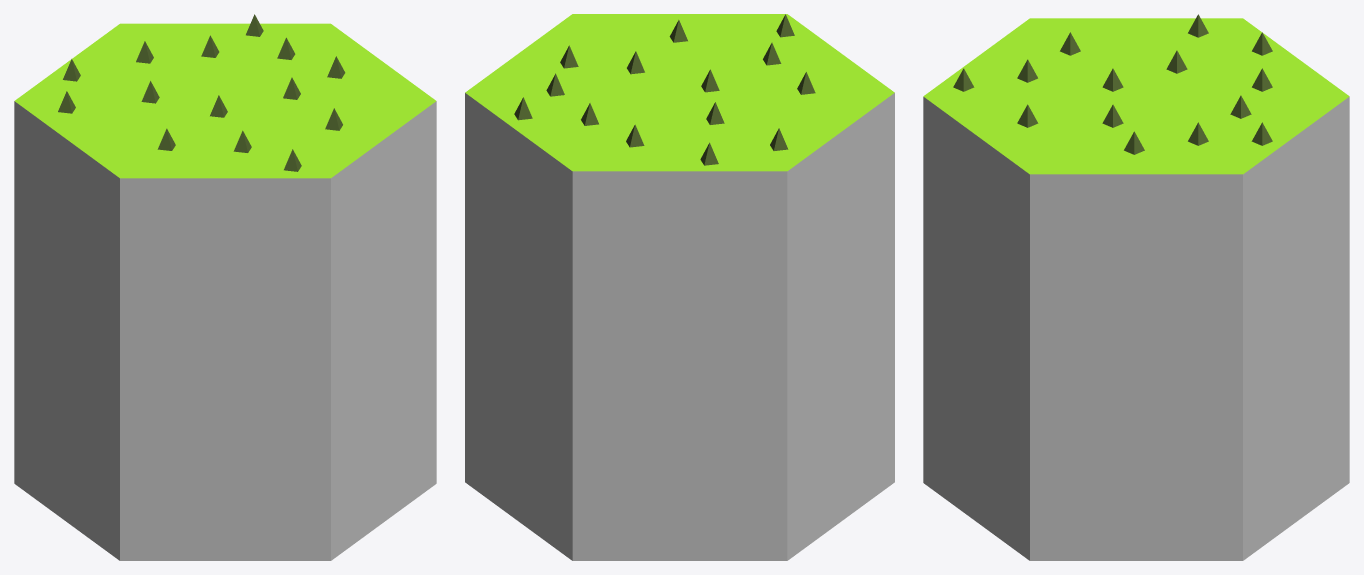
The model's file is HexCellPlains.fbx.
The picture shows the model from 3 angles, left to right: view 1: azimuth 30°, elevation 25°; view 2: azimuth 150°, elevation 25°; view 3: azimuth 270°, elevation 25°; orthographic projection.
Parts seen in each view (by area): view 1: Circle; view 2: Circle; view 3: Circle.
Boxes of the visible parts, x1,y1,x2,y2 form: Circle: (14, 14, 436, 560); Circle: (465, 14, 894, 560); Circle: (923, 14, 1349, 560).
Size of the model in its own units: 173 by 210 by 200.
